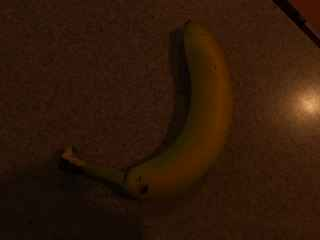banana: (55, 16, 240, 210)
